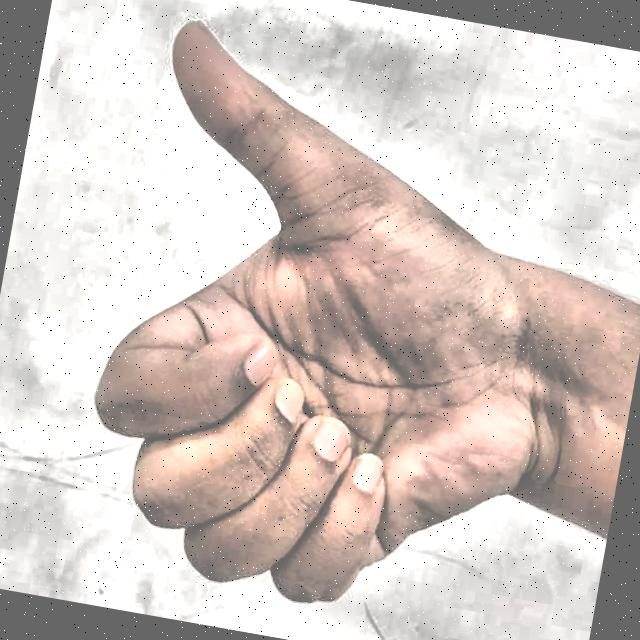Do: (23, 0, 595, 640)
